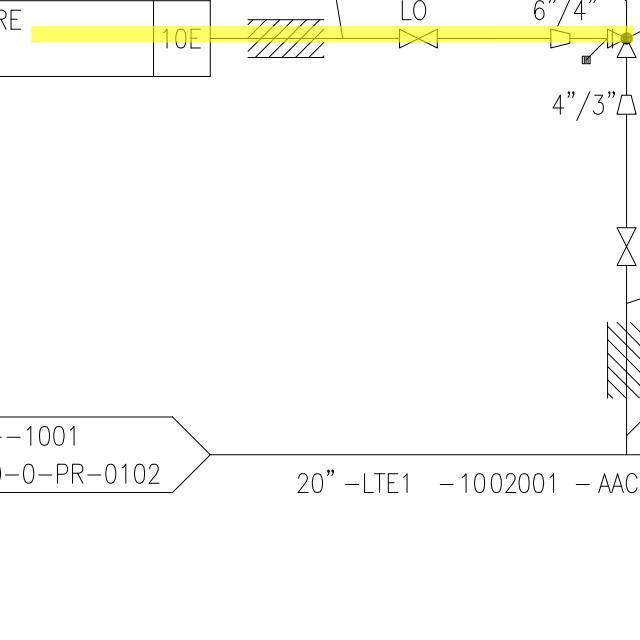GV: (611, 223, 638, 272), (391, 26, 443, 51)
SP: (543, 25, 578, 50), (613, 89, 640, 120)
